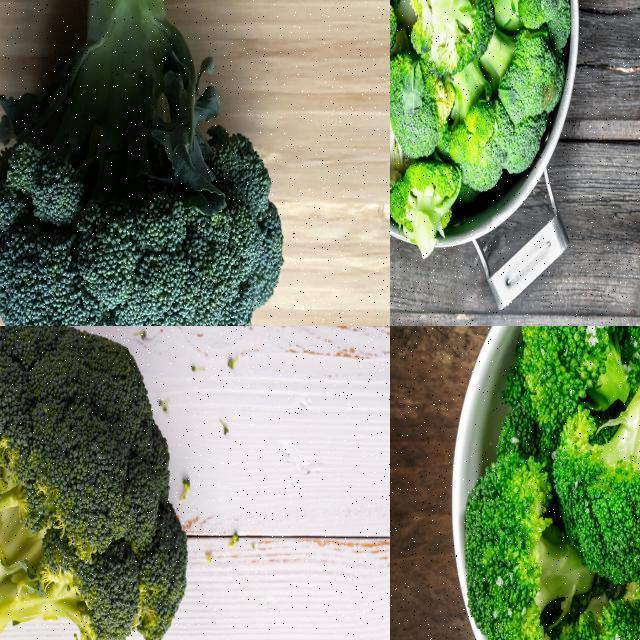broccoli: (0, 0, 288, 325), (0, 326, 195, 639), (459, 459, 598, 639), (445, 0, 575, 189), (551, 343, 639, 585), (518, 326, 639, 432), (390, 155, 464, 264), (390, 54, 462, 156), (409, 0, 499, 80)
